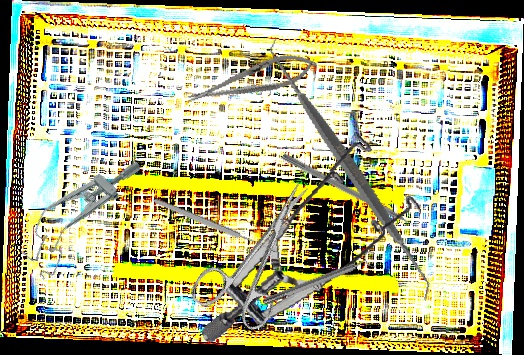Fixation Ring: (259, 248, 381, 311)
Iris Scissors: (186, 165, 340, 340)
Needle Holder: (183, 46, 321, 114)
Pusher: (280, 152, 428, 237)
Spatula Surgical: (215, 36, 486, 302)
Speculum: (175, 124, 436, 344), (9, 139, 150, 283)
Surgical Spoon: (151, 196, 279, 256)
